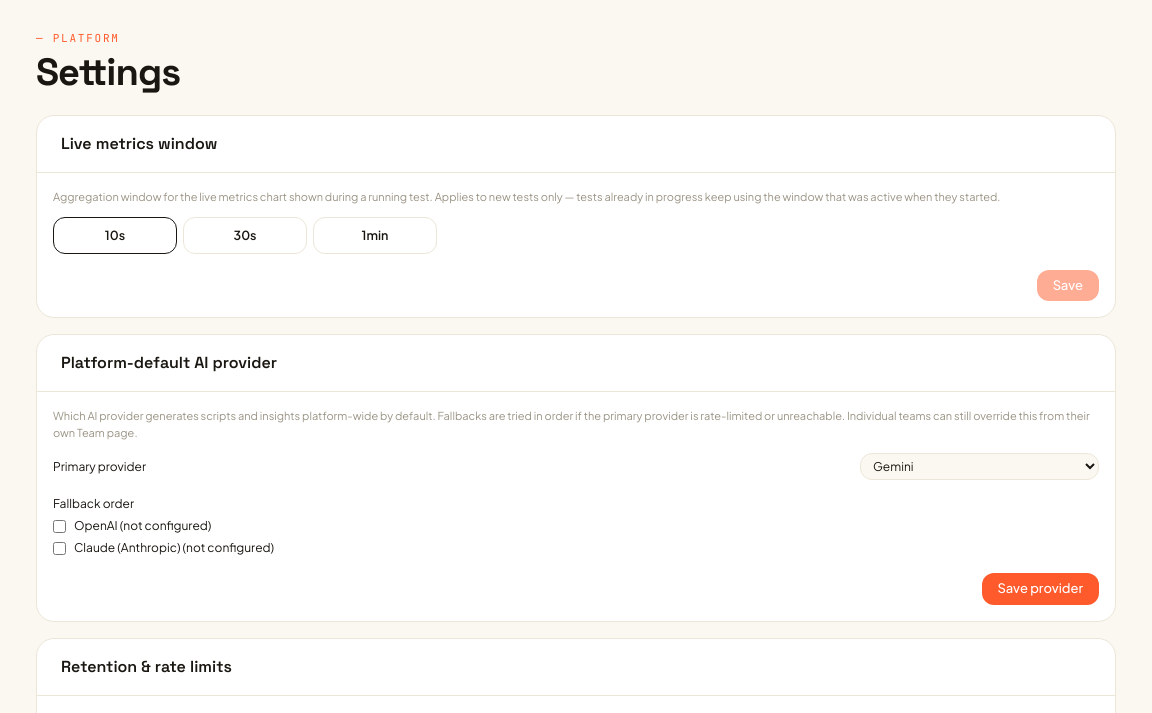
SettingsPage — admin, saving a change › shows "Saving…" and disables the button while the request is in flight
The image size is (1152, 713).
Check: the text "10s" is shown, box [105,227,125,243]
Click the button "30s". click: (245, 235)
box: [183,217,307,254]
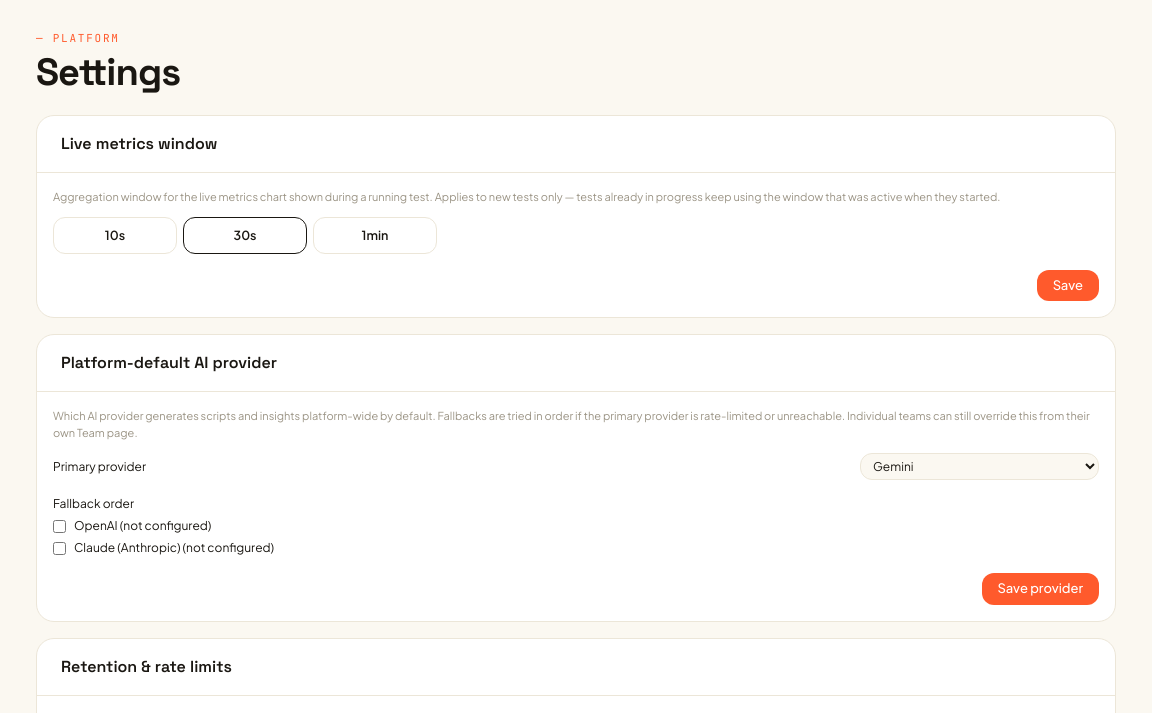
Click the button "Save". click: (1068, 286)
box: [1037,270,1099,301]
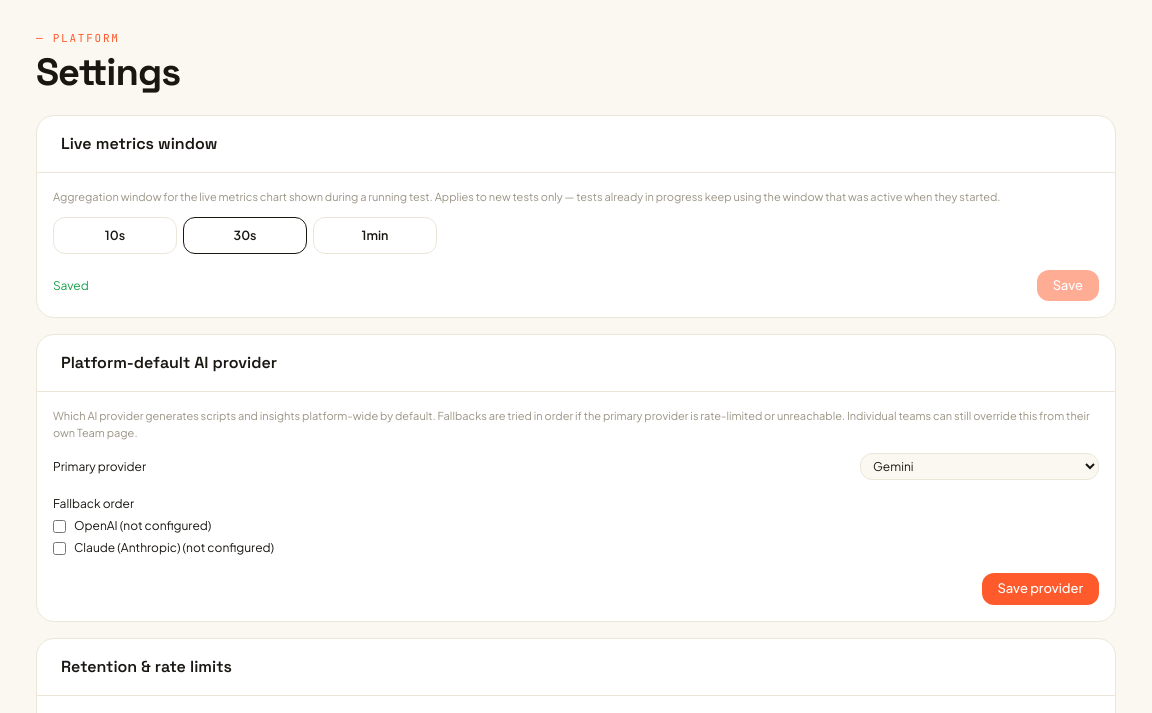
Check: the button named "saving" is disabled, box [1037,270,1099,301]
Check: the text "Saved" is shown, box [53,276,89,294]
